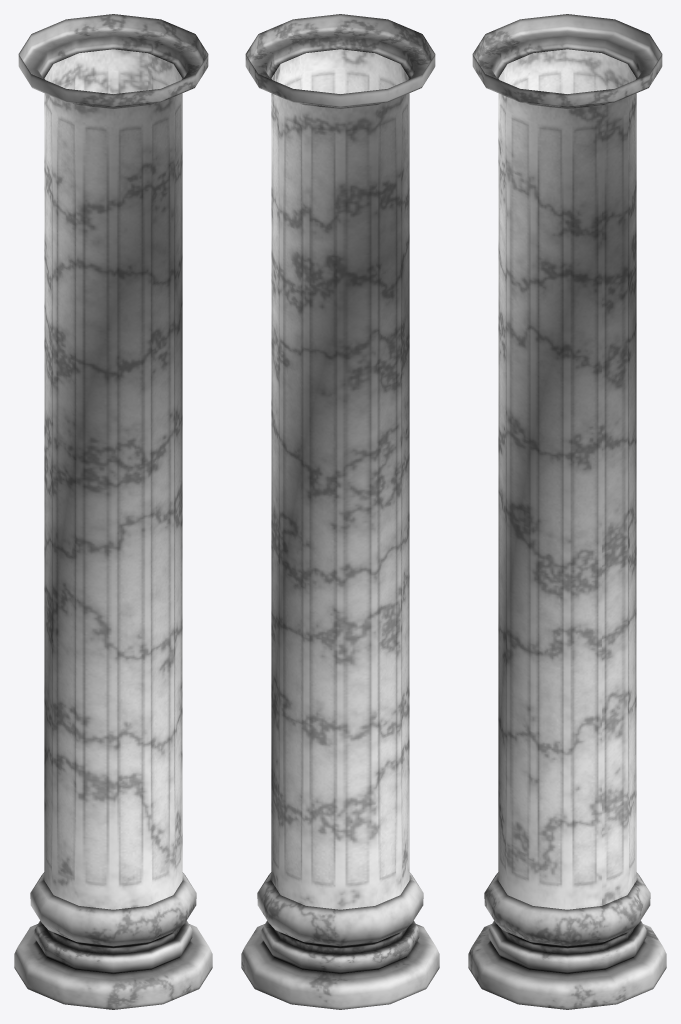
File: colonne.dae
3 renders of one model, left to right at view 1: azimuth 30°, elevation 25°; view 2: azimuth 150°, elevation 25°; view 3: azimuth 270°, elevation 25°, orthographic.
Parts seen in each view (by area): view 1: lp; view 2: lp; view 3: lp.
Boxes of the visible parts, x1,y1,x2,y2 form: lp: (14,14,212,1009); lp: (241,14,439,1009); lp: (468,14,666,1009).
Size of the model in its own units: 2.03 by 10.32 by 2.03.
Materials: 1 (1 with a texture image).
